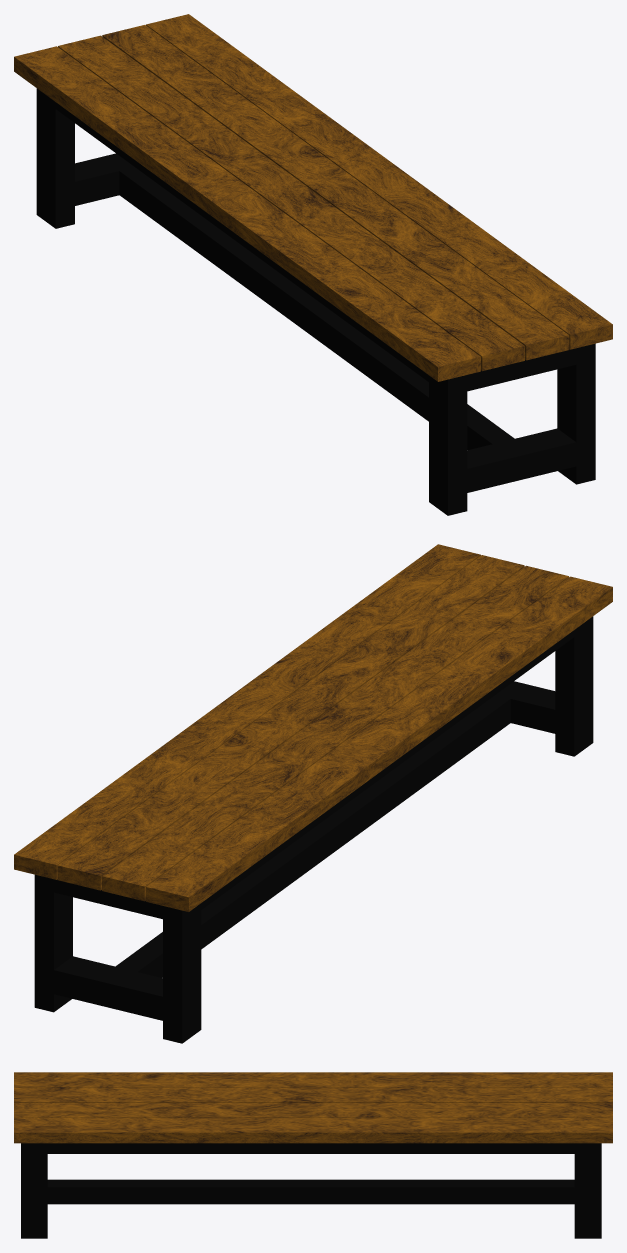
3 renders of one model, top to bottom at view 1: azimuth 30°, elevation 25°; view 2: azimuth 150°, elevation 25°; view 3: azimuth 270°, elevation 25°, orthographic. The views are drawn at different scales.
Parts seen in each view (by area): view 1: Cube_0; view 2: Cube_0; view 3: Cube_0.
Part boxes in pixels (bbox=[...]): Cube_0: bbox=[14, 14, 612, 515]; Cube_0: bbox=[14, 544, 612, 1043]; Cube_0: bbox=[14, 1072, 612, 1238].
Bounding box in the file's own units: 6.73 × 5.73 × 28.27.
Materials: 2 (2 with a texture image).
